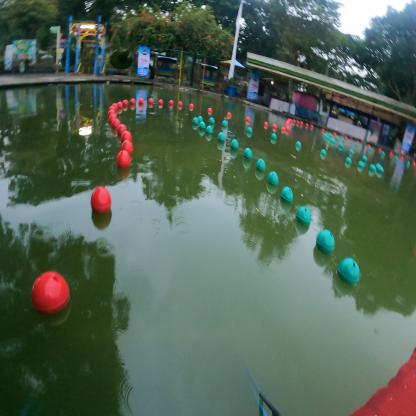green_buoy: (336, 255, 360, 286), (316, 228, 335, 256), (296, 204, 312, 227), (280, 185, 294, 205), (267, 170, 279, 188), (255, 157, 266, 172), (243, 147, 253, 160), (230, 138, 239, 150), (205, 125, 213, 135), (218, 132, 226, 142), (199, 121, 206, 130), (192, 117, 199, 125), (270, 132, 277, 140), (295, 140, 302, 148), (222, 120, 228, 128), (247, 126, 253, 134), (320, 148, 326, 156), (198, 116, 204, 123), (209, 118, 215, 125)
red_buoy: (31, 270, 70, 316), (90, 185, 111, 215), (116, 149, 130, 169), (122, 140, 134, 154), (121, 130, 132, 143), (117, 124, 127, 136), (111, 118, 121, 128), (108, 113, 117, 124), (108, 109, 116, 118), (108, 106, 116, 114), (122, 100, 129, 106), (112, 103, 118, 110), (148, 98, 154, 104), (158, 98, 164, 104), (117, 102, 123, 108), (139, 98, 144, 104), (130, 98, 135, 104), (178, 100, 183, 106), (189, 102, 194, 108), (207, 107, 212, 113), (272, 123, 277, 129), (227, 112, 232, 117), (246, 116, 250, 122), (264, 121, 268, 127), (169, 100, 173, 105), (286, 127, 290, 132), (281, 127, 285, 131)
